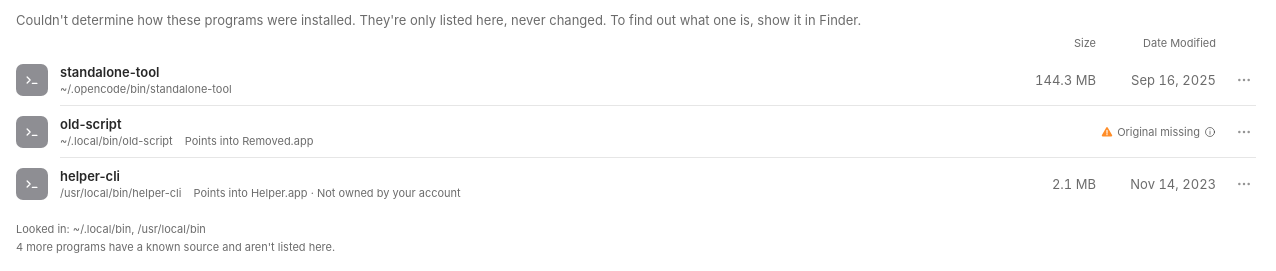
Scenario: a row's ⋯ menu › Show in Finder that could not show it › says to scan again when the program changed after the scan
The image size is (1276, 271).
Click the button named "More actions for ": click(1244, 80) [1232, 68, 1256, 92]
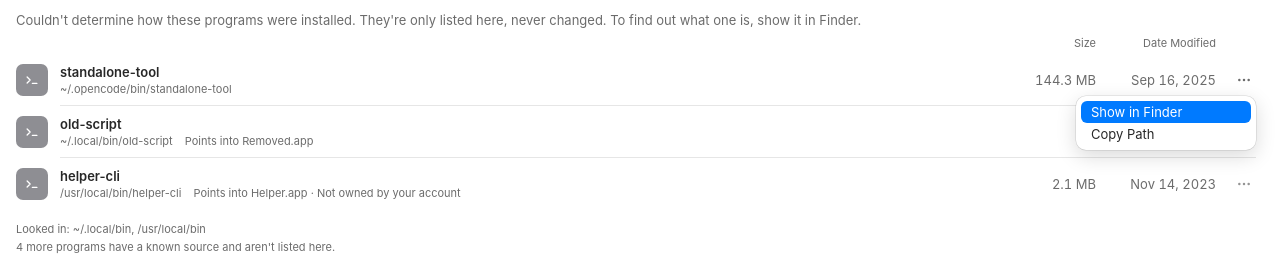
Click the menu item "Show in Finder": click(1166, 112) [1081, 101, 1251, 123]
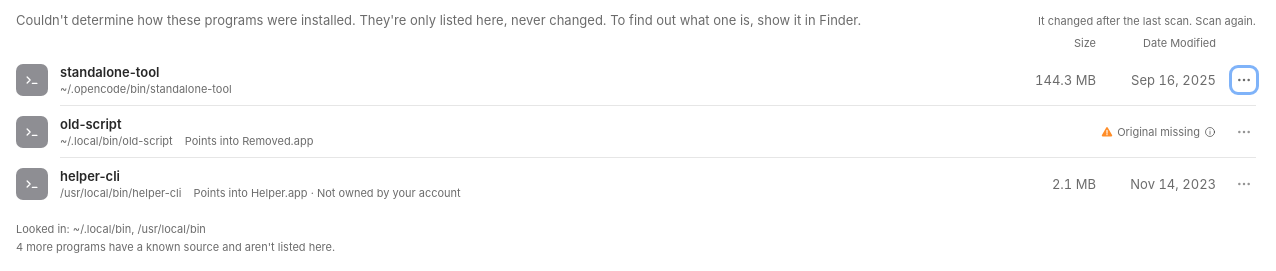
Expected: the message reads "It changed after the last scan. Scan again.", [1038, 14, 1256, 28]
Click the button named "More actions for ": click(1244, 80) [1232, 68, 1256, 92]
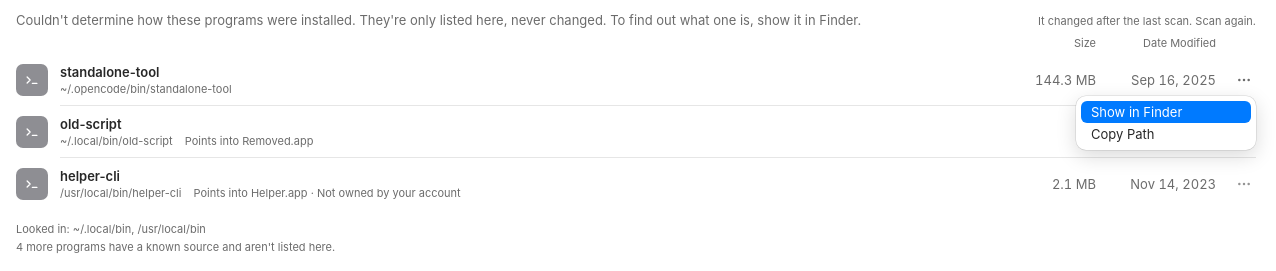
Click the menu item "Show in Finder": click(1166, 112) [1081, 101, 1251, 123]
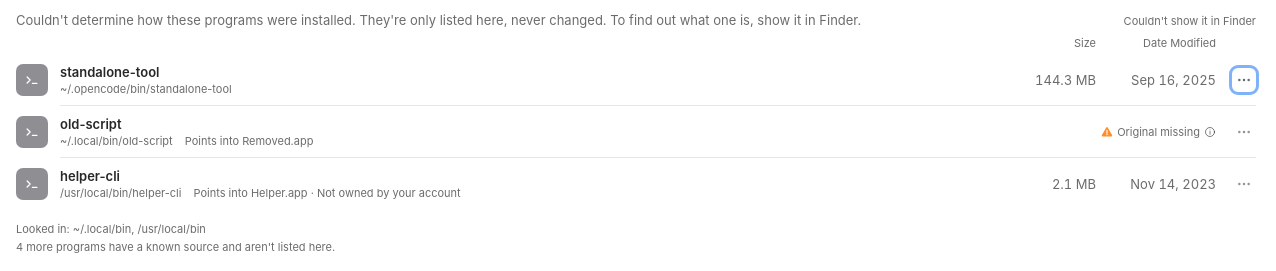
Expected: the message reads "Couldn't show it in Finder", [1124, 14, 1256, 28]
